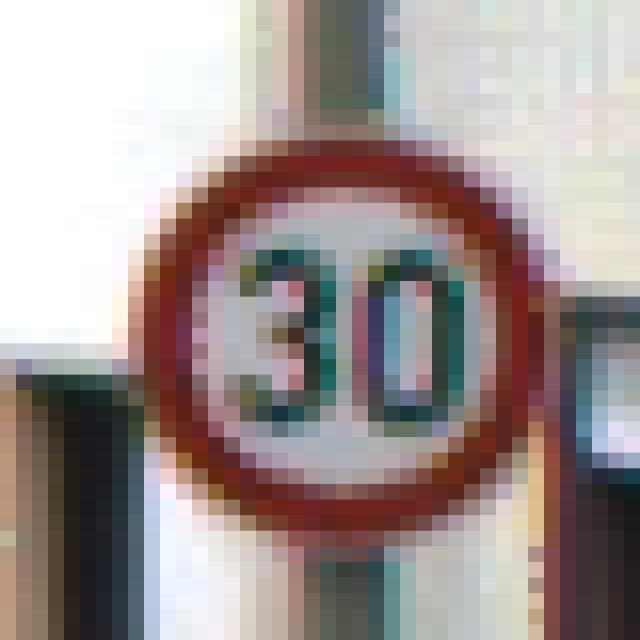Speed Limit -30-: (72, 86, 536, 554)
